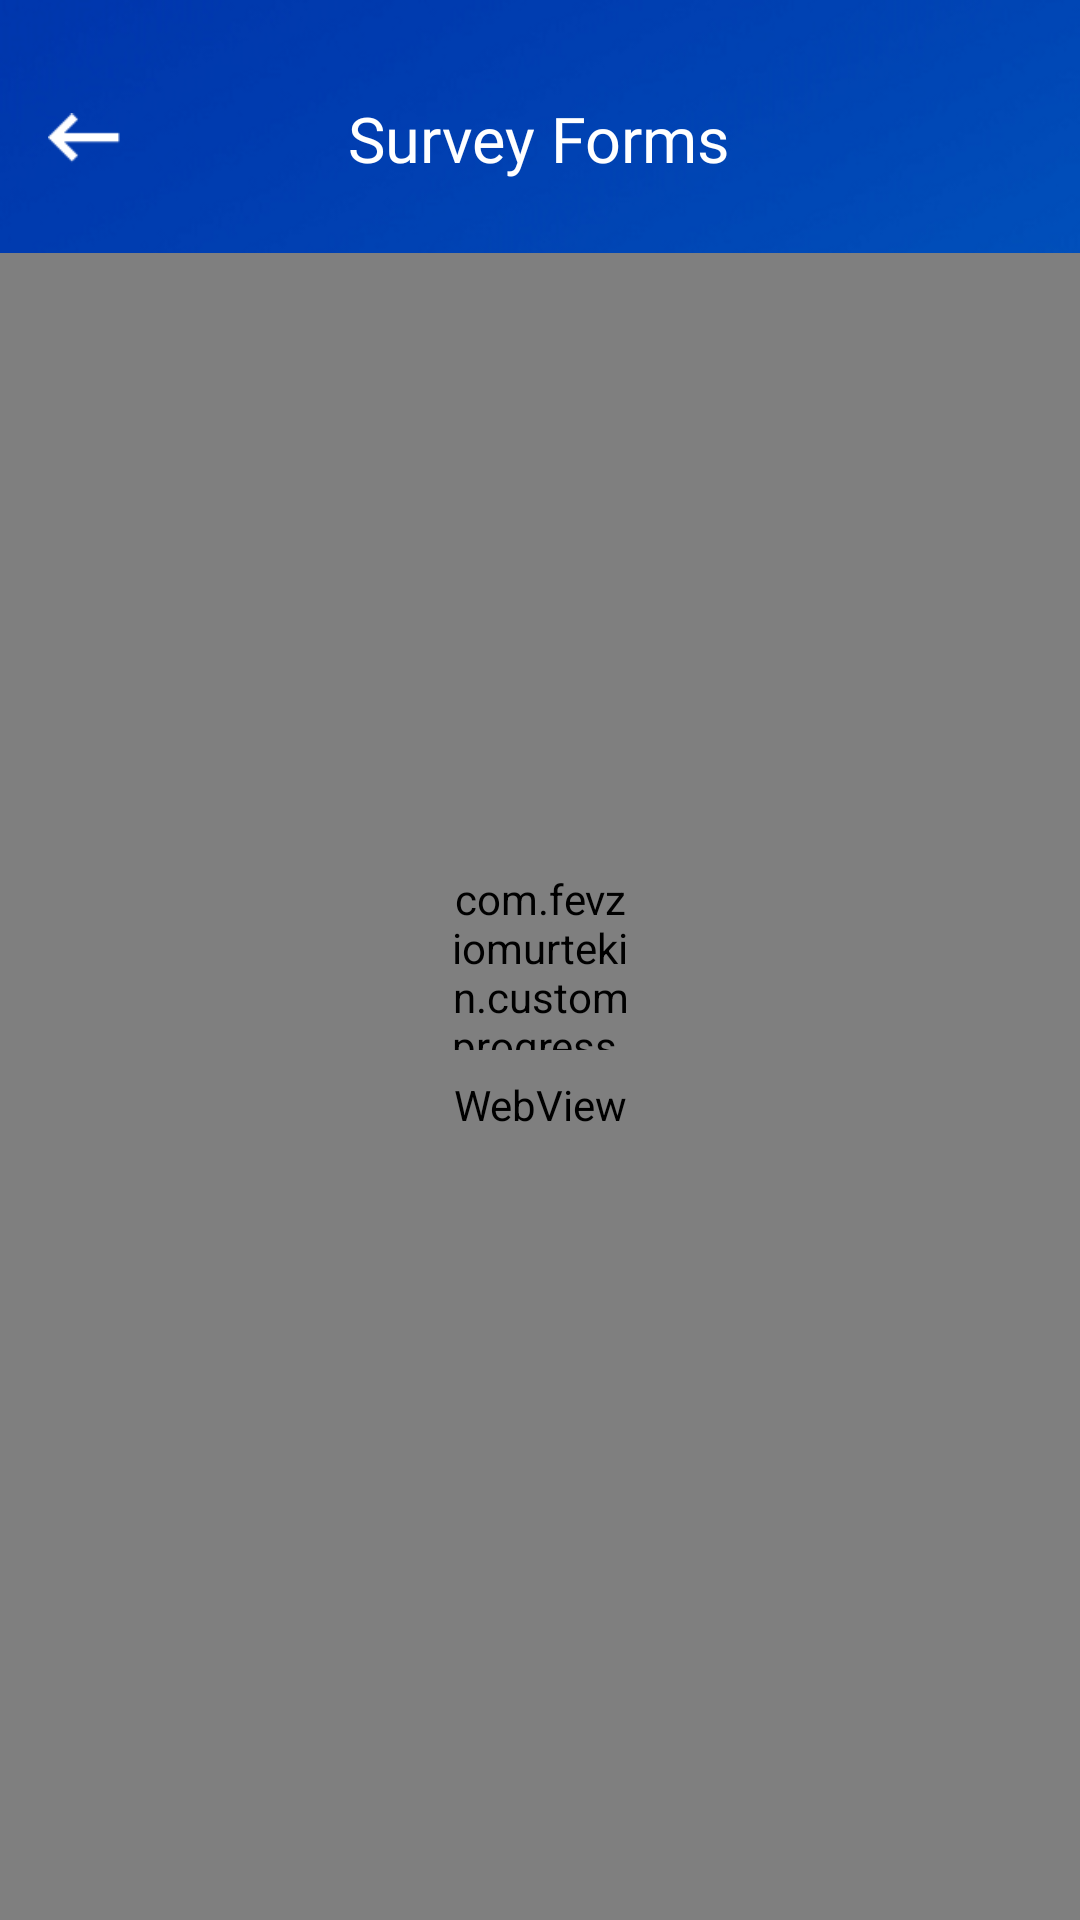

Where to tap for icons on this 1080px x 1920px app screen, as (x=x, y=y):
backbtn: (x=84, y=137)
